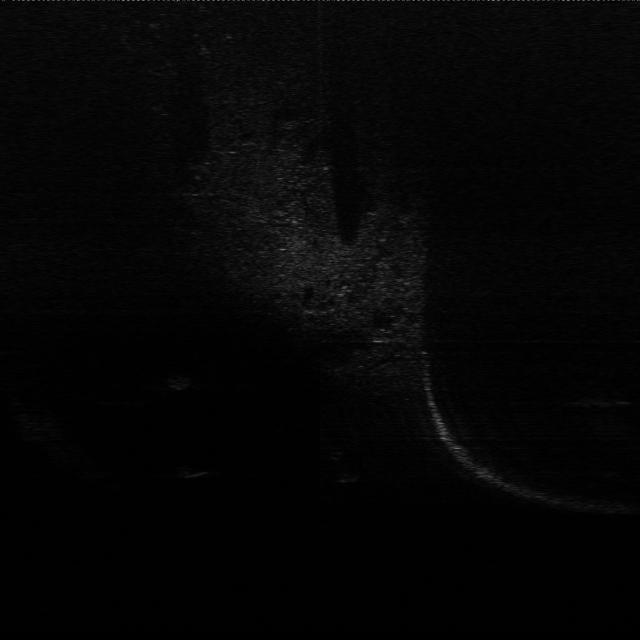cube: (172, 454, 213, 479)
square cage: (163, 369, 197, 395)
tyre: (318, 448, 362, 487)
